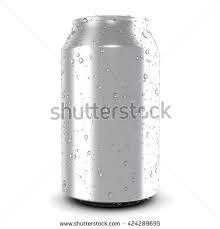Aluminum can: (49, 10, 172, 214)
